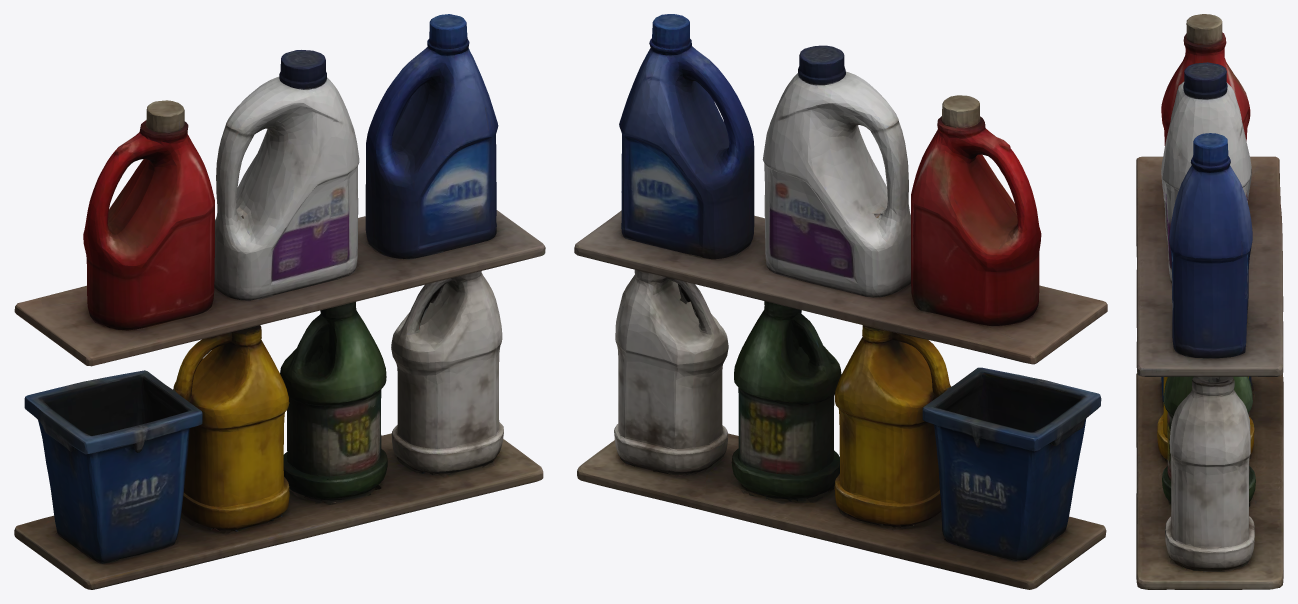
The model's file is cleaner_shelves.glb.
The picture shows the model from 3 angles, left to right: view 1: azimuth 30°, elevation 25°; view 2: azimuth 150°, elevation 25°; view 3: azimuth 270°, elevation 25°; orthographic projection. The views are drawn at different scales.
Parts seen in each view (by area): view 1: geometry_0; view 2: geometry_0; view 3: geometry_0.
Boxes of the visible parts, x1,y1,x2,y2 form: geometry_0: (14,14,545,589); geometry_0: (574,14,1107,589); geometry_0: (1136,14,1283,589).
Size of the model in its own units: 1 by 0.9263 by 0.2928.
Materials: 1 (1 with a texture image).
